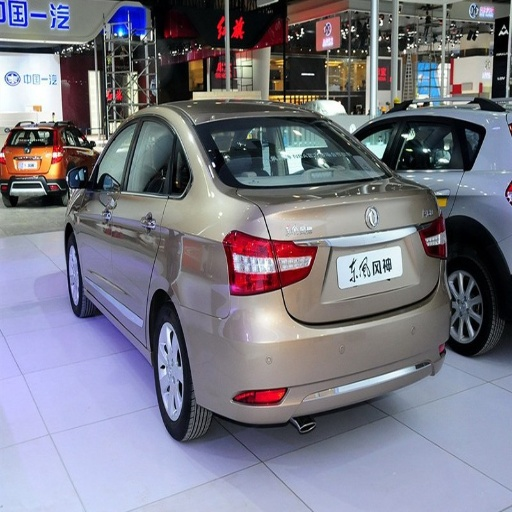back_bumper: (184, 250, 445, 424)
back_glass: (199, 117, 393, 186)
back_left_door: (116, 114, 178, 319)
tailgate: (237, 174, 428, 324)
